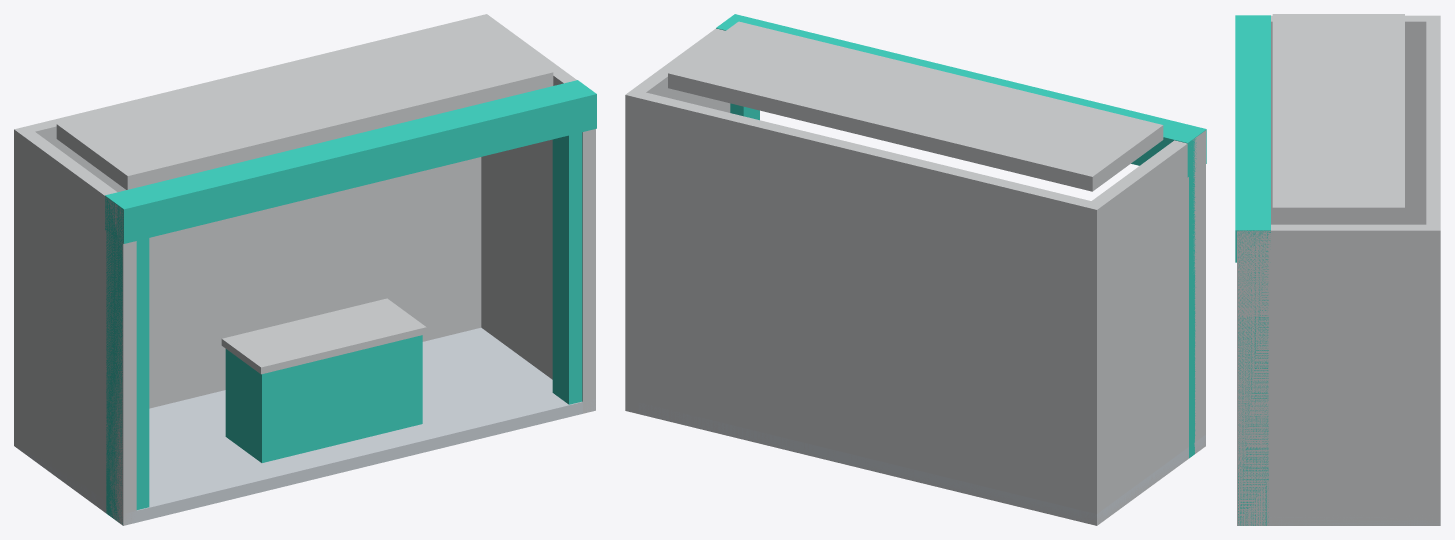
3 views of the same model, side by side, from view 1: azimuth 30°, elevation 25°; view 2: azimuth 150°, elevation 25°; view 3: azimuth 270°, elevation 25° (orthographic). The views are drawn at different scales.
Visible parts, largest first — view 1: Exhibition Booth Concept; view 2: Exhibition Booth Concept; view 3: Exhibition Booth Concept.
Part boxes in pixels (x1=…): Exhibition Booth Concept: x1=14, y1=14, x2=596, y2=525; Exhibition Booth Concept: x1=625, y1=14, x2=1206, y2=525; Exhibition Booth Concept: x1=1235, y1=14, x2=1440, y2=525.
Size of the model in its own units: 5 by 3.34 by 2.01.
